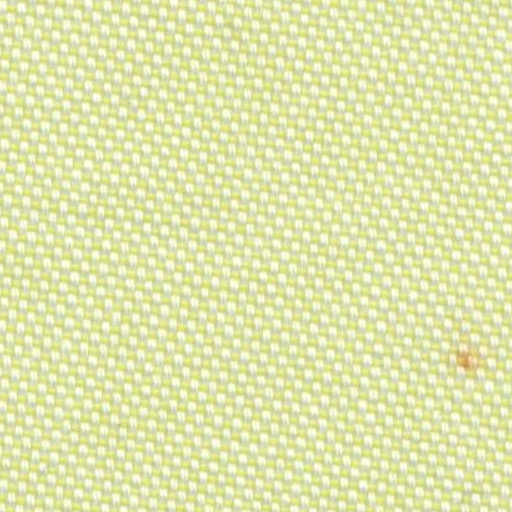WuZi: (433, 328, 488, 387)
